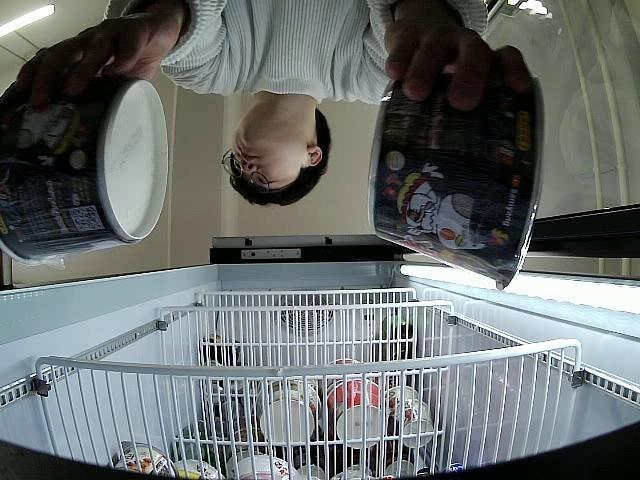07_buldak_L: (367, 72, 540, 294), (0, 67, 170, 266)
